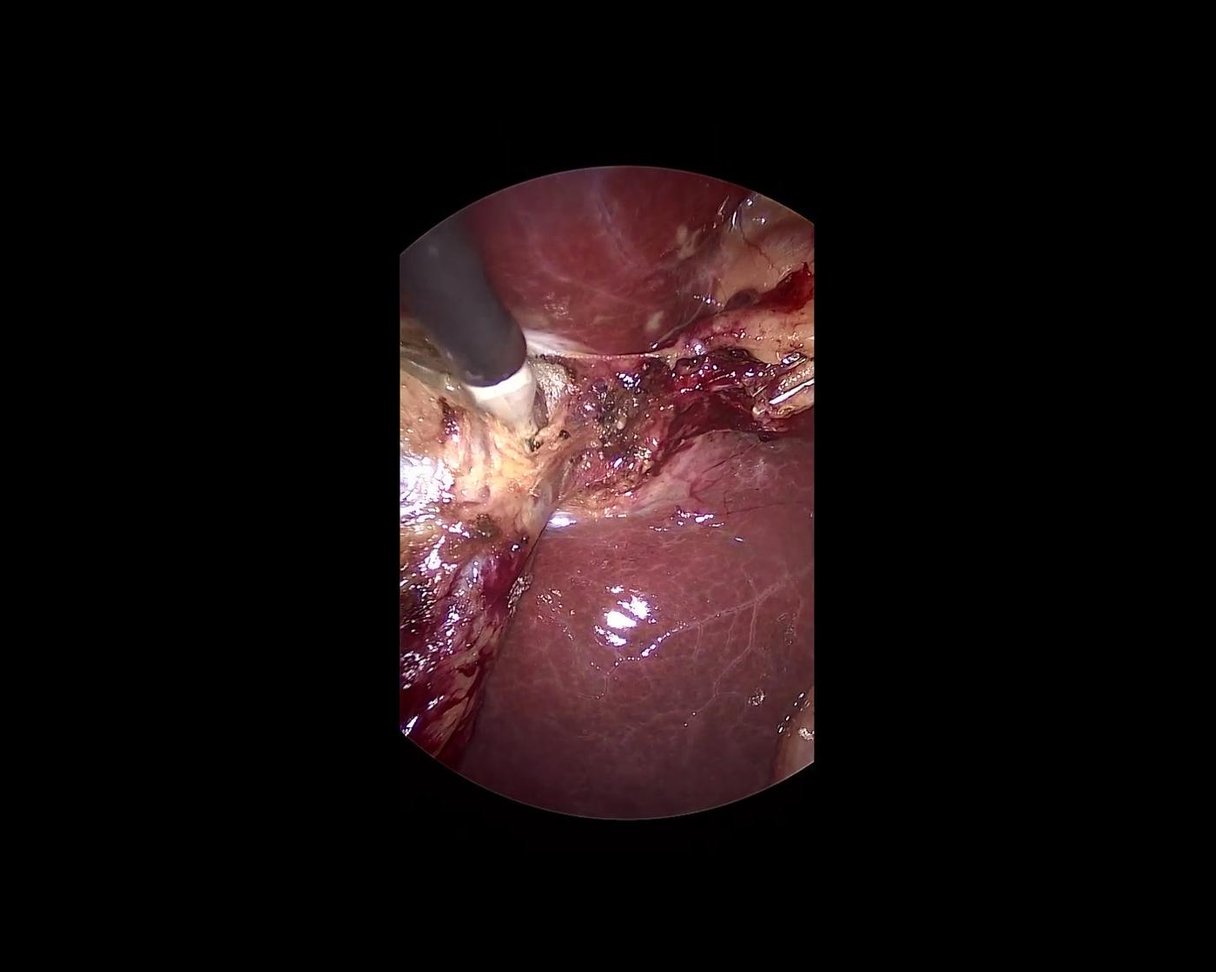Cautery: (376, 205, 572, 478)
Gallbladder: (400, 343, 557, 762)
Liver: (435, 361, 888, 882), (478, 161, 755, 356)
